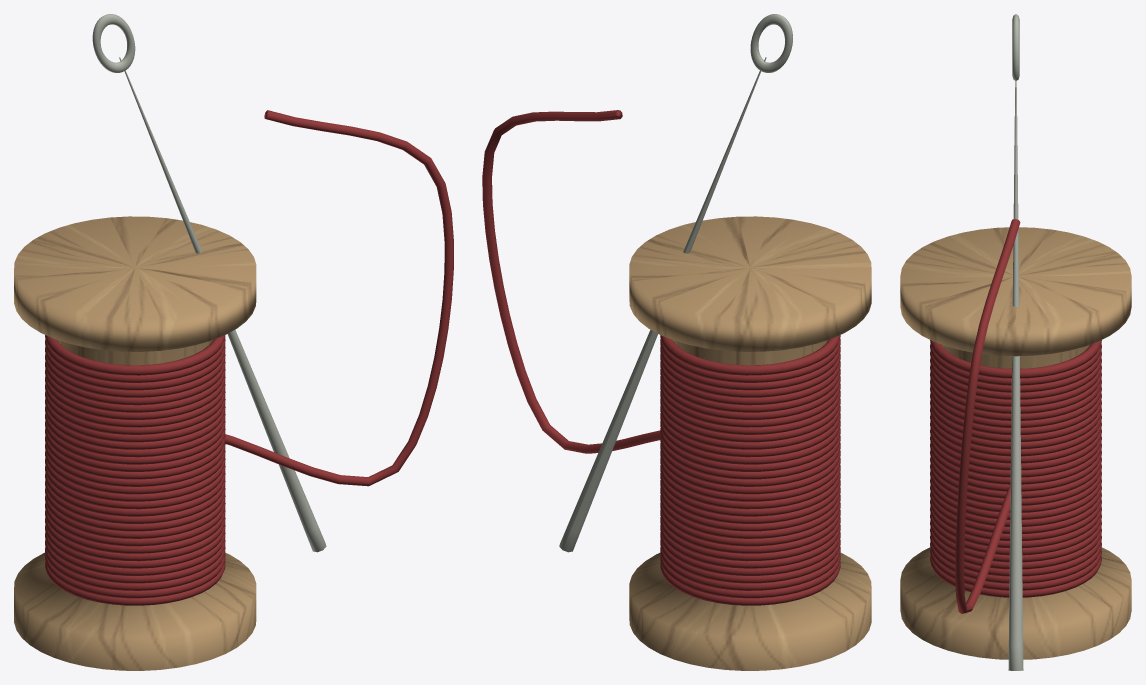
Rendered from props_p6__p6_needle_thread.glb.
The picture shows the model from 3 angles, left to right: view 1: azimuth 30°, elevation 25°; view 2: azimuth 150°, elevation 25°; view 3: azimuth 270°, elevation 25°; orthographic projection. The views are drawn at different scales.
Parts seen in each view (by area): view 1: spool, reference_static_surfaces, loose_thread, needle_shaft, needle_eye; view 2: spool, reference_static_surfaces, loose_thread, needle_shaft, needle_eye; view 3: spool, reference_static_surfaces, loose_thread, needle_shaft, needle_eye.
Boxes of the visible parts, box(x1,y1,x2,y2) form: spool: box(14, 216, 256, 670); reference_static_surfaces: box(45, 335, 225, 605); loose_thread: box(225, 110, 453, 486); needle_shaft: box(119, 57, 326, 552); needle_eye: box(92, 14, 135, 72); spool: box(629, 216, 871, 670); reference_static_surfaces: box(660, 335, 840, 605); loose_thread: box(482, 110, 660, 453); needle_shaft: box(559, 57, 766, 552); needle_eye: box(750, 14, 792, 72); spool: box(900, 227, 1131, 659); reference_static_surfaces: box(930, 340, 1101, 597); loose_thread: box(955, 219, 1020, 613); needle_shaft: box(1008, 81, 1023, 670); needle_eye: box(1012, 14, 1019, 80).
Bounding box in the file's own units: 0.0452 × 0.0664 × 0.0239.
Materials: 5 (1 with a texture image).
